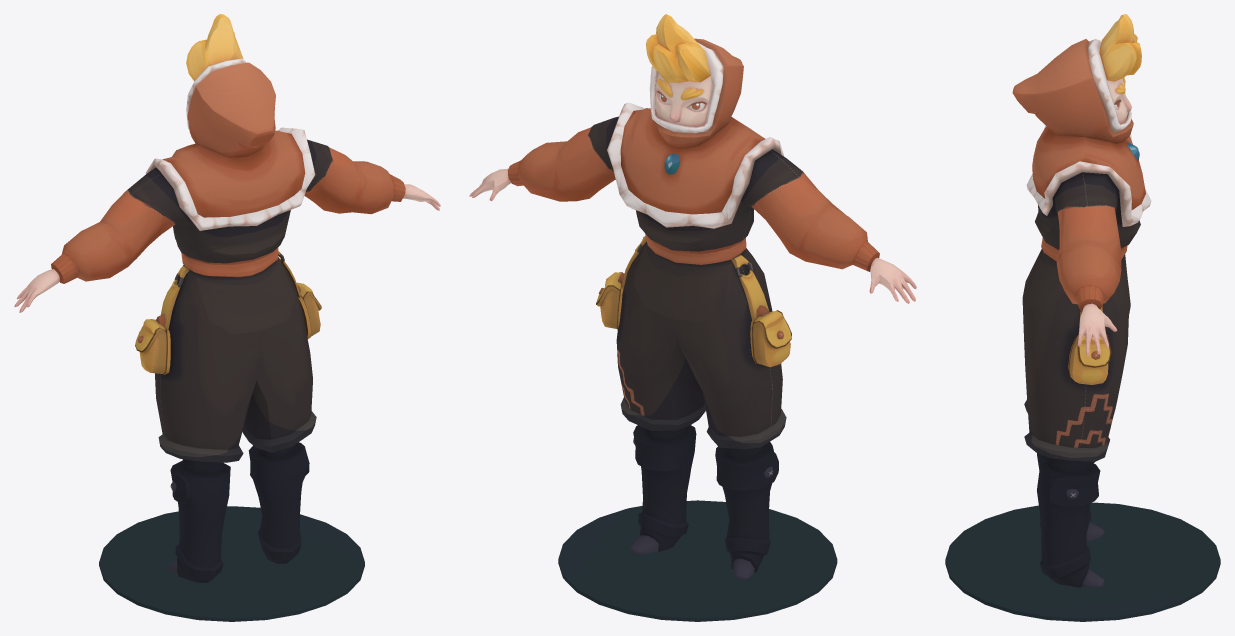
Rendered from showcaseAdventurerRunner.63259d03.glb.
3 views of the same model, side by side, from view 1: azimuth 30°, elevation 25°; view 2: azimuth 150°, elevation 25°; view 3: azimuth 270°, elevation 25° (orthographic). The views are drawn at different scales.
Visible parts, largest first — view 1: character, pCylinder1; view 2: character, pCylinder1; view 3: character, pCylinder1.
Part boxes in pixels (bbox=[...]): character: bbox=[14, 14, 440, 582]; pCylinder1: bbox=[99, 506, 364, 621]; character: bbox=[469, 14, 916, 579]; pCylinder1: bbox=[558, 500, 837, 621]; character: bbox=[1012, 14, 1151, 587]; pCylinder1: bbox=[945, 502, 1220, 621].
Bounding box in the file's own units: 6.96 × 8.47 × 3.82.
2 materials, 2 textured.
